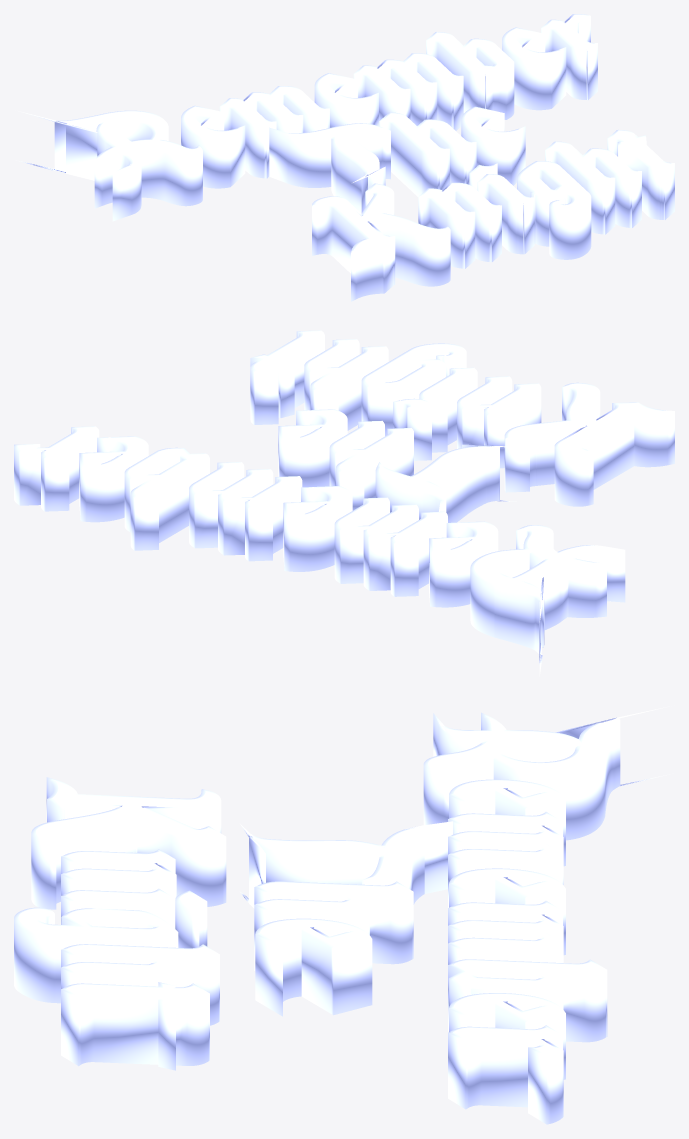
Rendered from RTK Thin.fbx.
The picture shows the model from 3 angles, top to bottom: view 1: azimuth 30°, elevation 25°; view 2: azimuth 150°, elevation 25°; view 3: azimuth 270°, elevation 25°; orthographic projection. The views are drawn at different scales.
Visible parts, largest first — view 1: Rememer The Knight; view 2: Rememer The Knight; view 3: Rememer The Knight.
Part boxes in pixels (x1,y1,x2,y2): Rememer The Knight: (16,14,674,301); Rememer The Knight: (14,330,674,676); Rememer The Knight: (14,706,669,1124).
Size of the model in its own units: 2185 by 196 by 1732.
